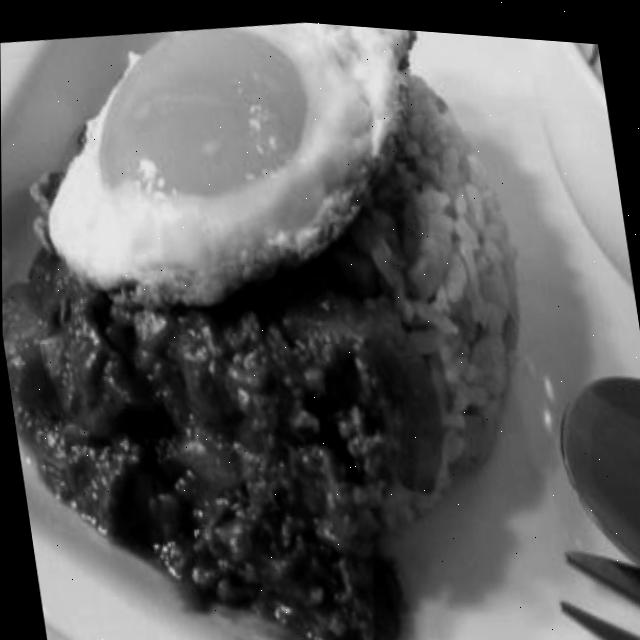鸡蛋料理: (16, 1, 435, 300)
